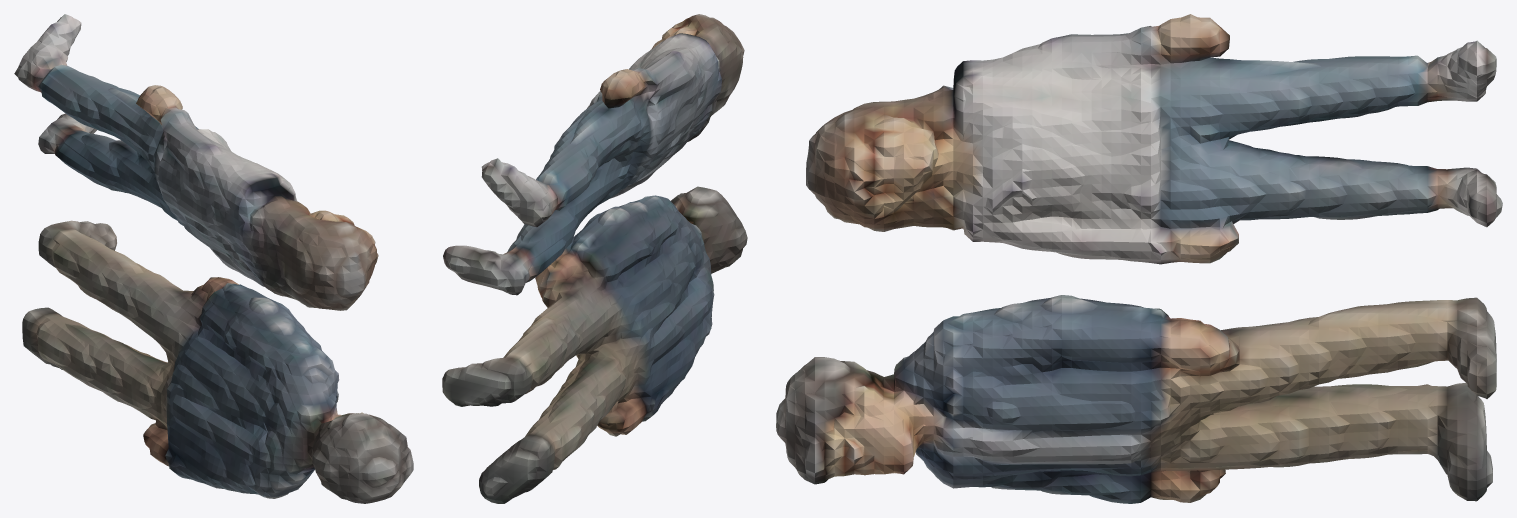
The model's file is bystanders-couple.glb.
3 views of the same model, side by side, from view 1: azimuth 30°, elevation 25°; view 2: azimuth 150°, elevation 25°; view 3: azimuth 270°, elevation 25° (orthographic). The views are drawn at different scales.
Parts seen in each view (by area): view 1: world; view 2: world; view 3: world.
Boxes of the visible parts, x1,y1,x2,y2 form: world: (14,14,413,503); world: (442,14,747,503); world: (776,14,1502,503).
Size of the model in its own units: 0.2965 by 0.7321 by 1.01.
